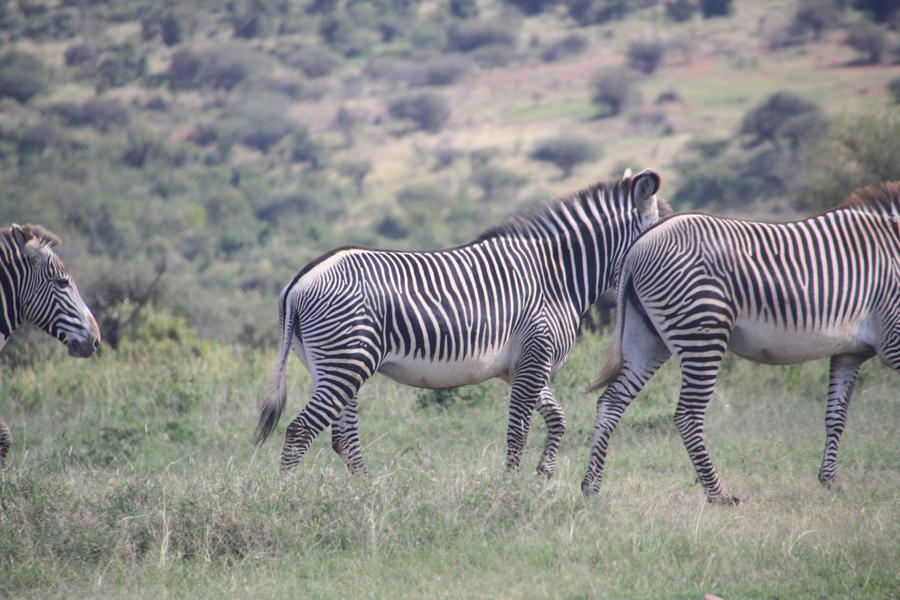zebra_grevys: (282, 220, 564, 374)
